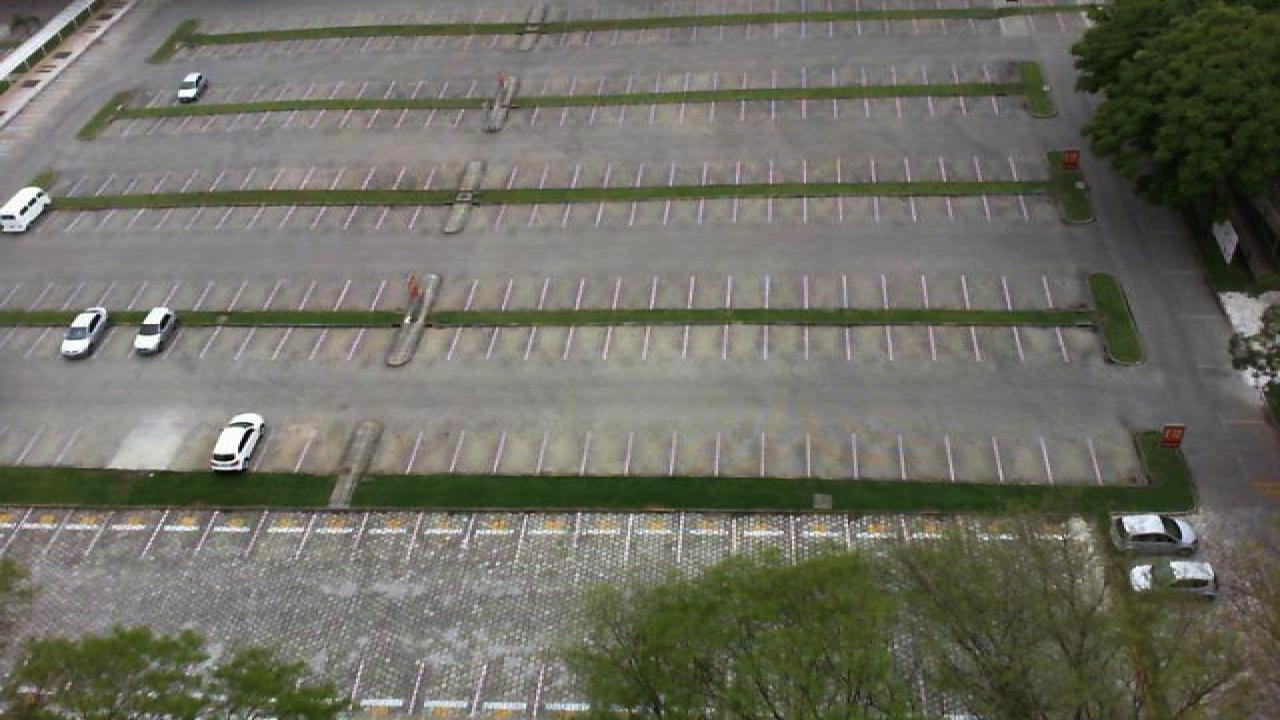Car: (1112, 512, 1200, 553), (1128, 558, 1220, 597), (208, 413, 268, 472), (58, 307, 108, 360), (130, 306, 178, 356), (0, 186, 52, 232), (176, 72, 208, 105)
